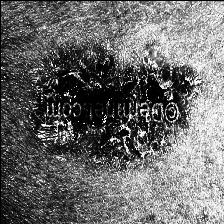Potentially Malignant Skin Tumors: (46, 55, 182, 99), (52, 118, 184, 156)
